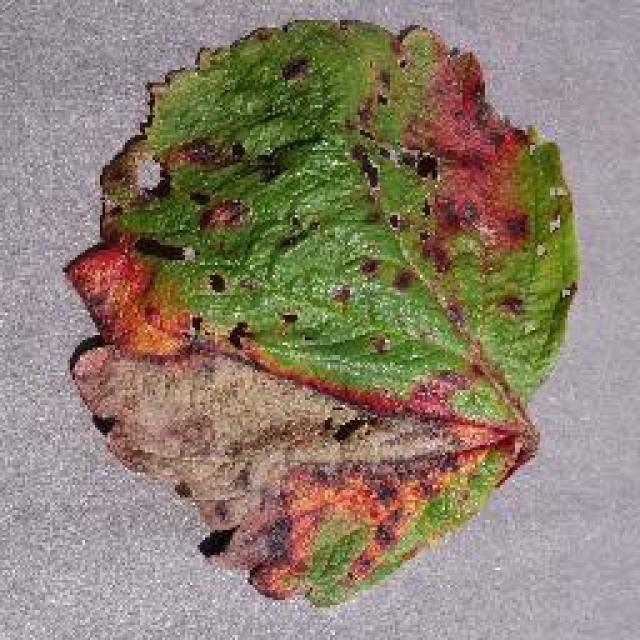Strawberry leaf scorch: (101, 185, 546, 453)
